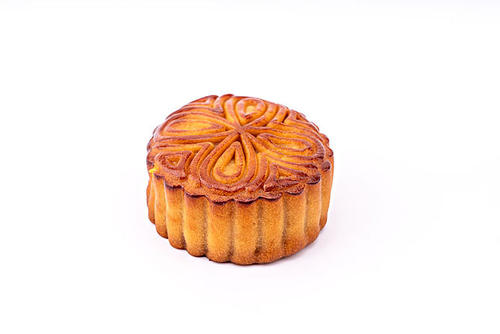MoonCake: (145, 94, 333, 266)
